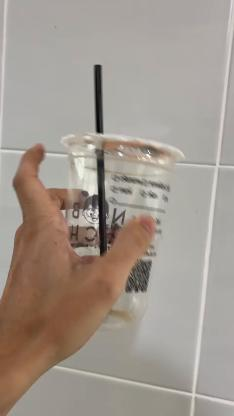Plastic Cup: (59, 133, 187, 333)
